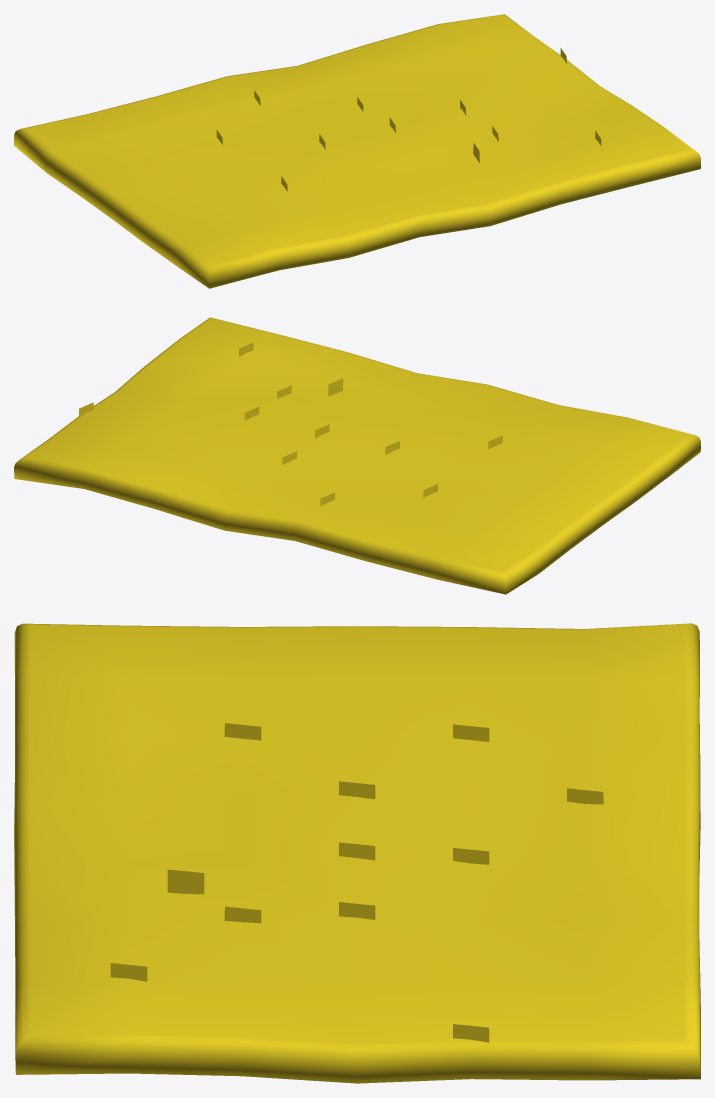
Rendered from farm_land_01.glb.
3 views of the same model, one above another, from view 1: azimuth 30°, elevation 25°; view 2: azimuth 150°, elevation 25°; view 3: azimuth 270°, elevation 25° (orthographic). The views are drawn at different scales.
Parts seen in each view (by area): view 1: FarmGround01; view 2: FarmGround01; view 3: FarmGround01.
Part boxes in pixels (bbox=[...]): FarmGround01: bbox=[14, 14, 700, 288]; FarmGround01: bbox=[14, 317, 700, 594]; FarmGround01: bbox=[14, 623, 700, 1083].
Size of the model in its own units: 21.28 by 1.46 by 14.63.
